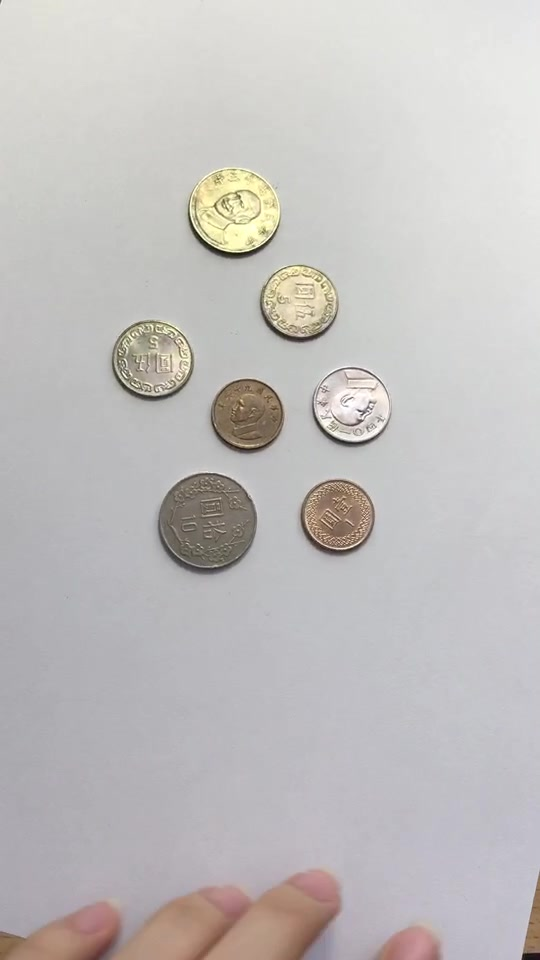1 dallar: (207, 373, 291, 462), (297, 471, 381, 560)
10 dallar: (148, 469, 262, 579), (179, 155, 293, 265)
5 dallar: (105, 310, 202, 407), (244, 256, 341, 353), (306, 355, 403, 452)
